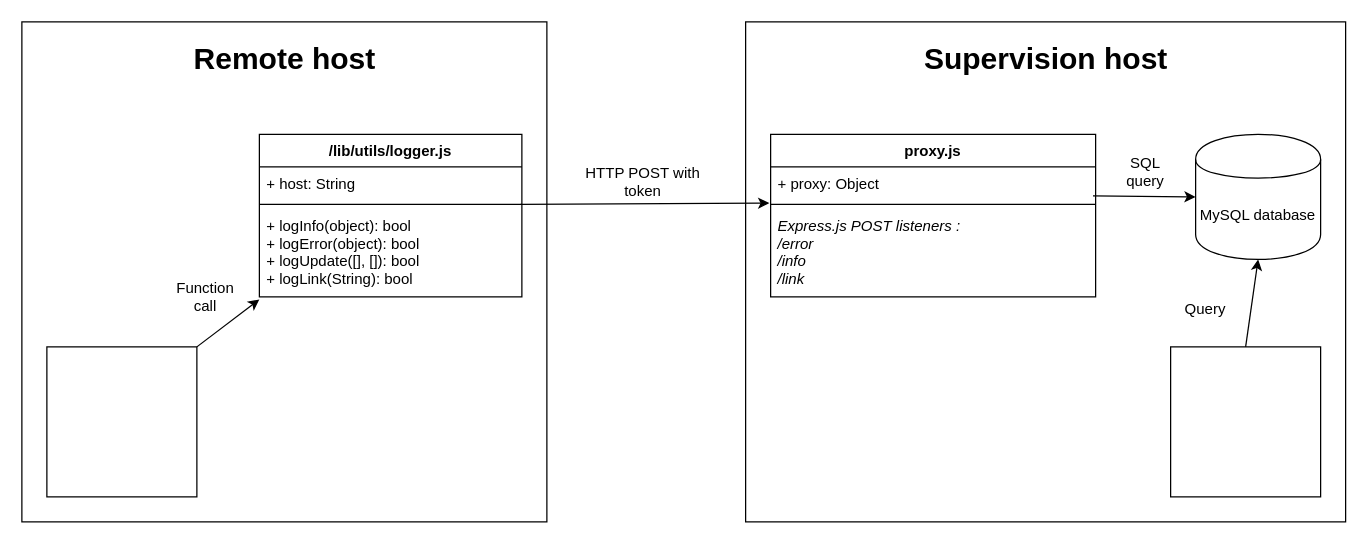
The diagram is 1368 pixels wide and 544 high, and some of its shapes have lost their labels. Each missing label, with the centre of its shape:
Grafana: (x=1245, y=421)
Squidwarc lib: (x=121, y=421)
